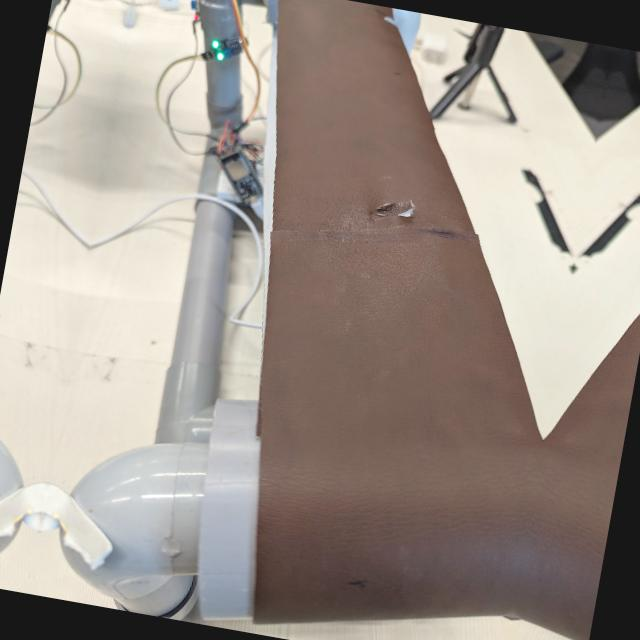joint_damage: (356, 164, 441, 243)
